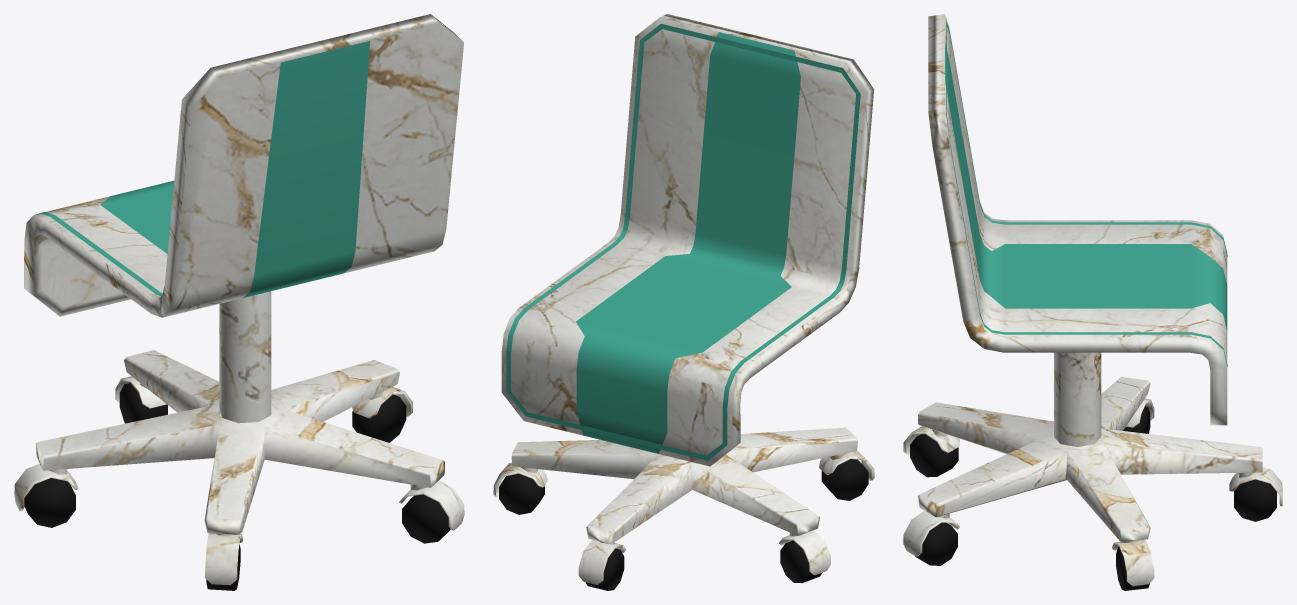
The model's file is FUR0310011.fbx.
The picture shows the model from 3 angles, left to right: view 1: azimuth 30°, elevation 25°; view 2: azimuth 150°, elevation 25°; view 3: azimuth 270°, elevation 25°; orthographic projection. The views are drawn at different scales.
Visible parts, largest first — view 1: smFUR0310011; view 2: smFUR0310011; view 3: smFUR0310011.
Part boxes in pixels (x1,y1,x2,y2): smFUR0310011: (14,14,464,590); smFUR0310011: (493,14,874,590); smFUR0310011: (903,14,1282,590).
Bounding box in the file's own units: 98.74 × 125 × 93.93.
1 material, 1 textured.
